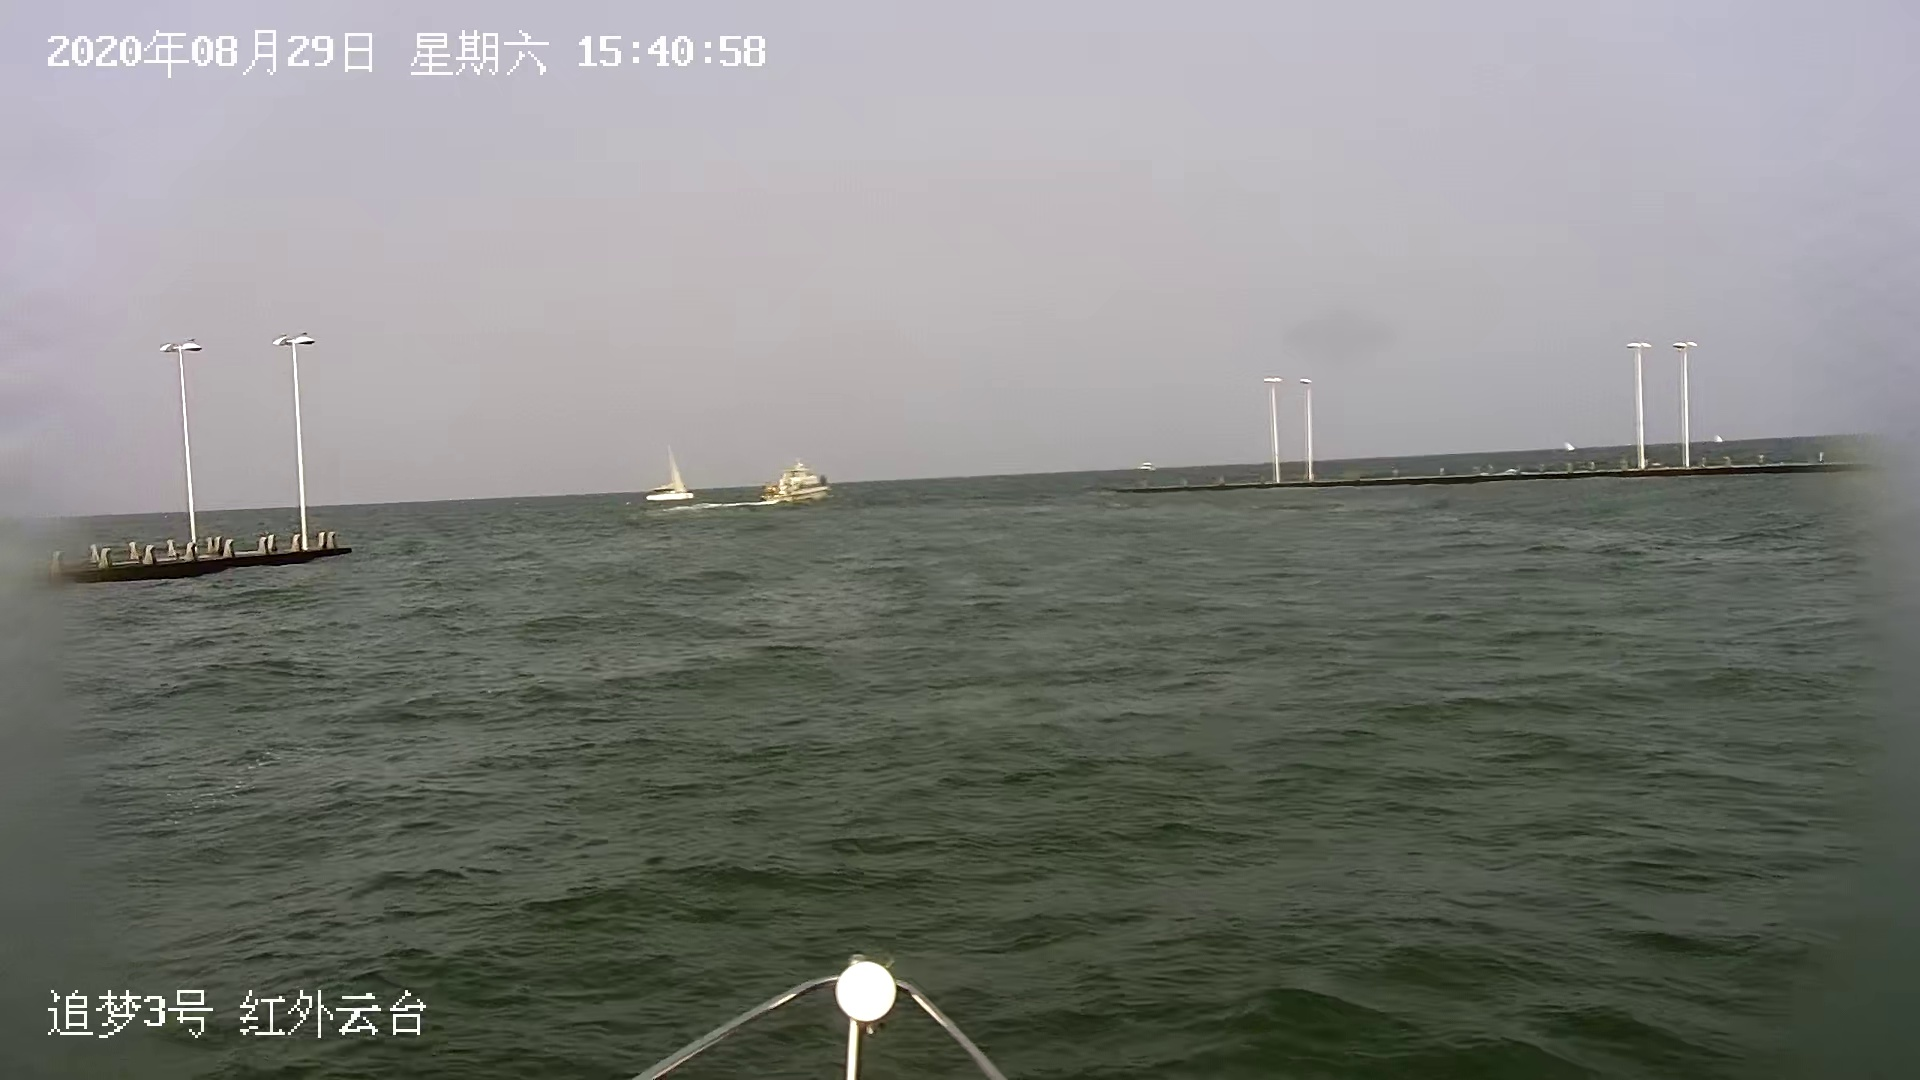barrier: (760, 455, 833, 510), (647, 447, 692, 502), (1135, 462, 1159, 475), (1564, 439, 1578, 454), (1714, 434, 1726, 444)
coast: (1126, 328, 1882, 495), (51, 331, 352, 582)
